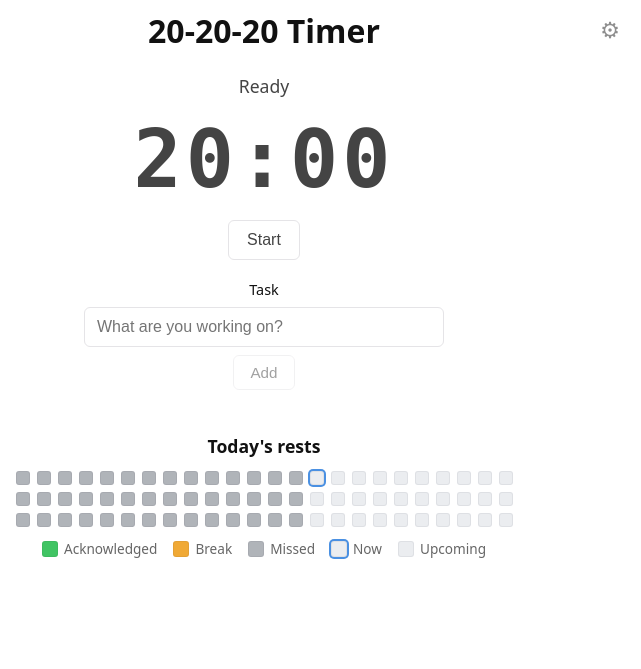
20-20-20 Timer › settings gear toggles the settings panel
The image size is (641, 669).
Click the button named "settings" at (610, 31), box [596,16,624,46]
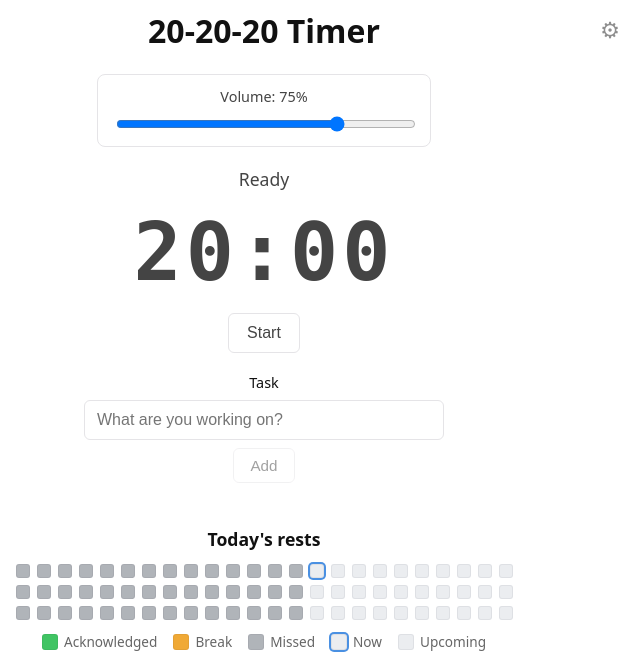
Expected: the element named "settings" is shown, [97,74,431,147]
Expected: the text "Volume: 75%" is shown, [114,87,414,134]
Click the button named "settings" at (610, 31), box [596,16,624,46]
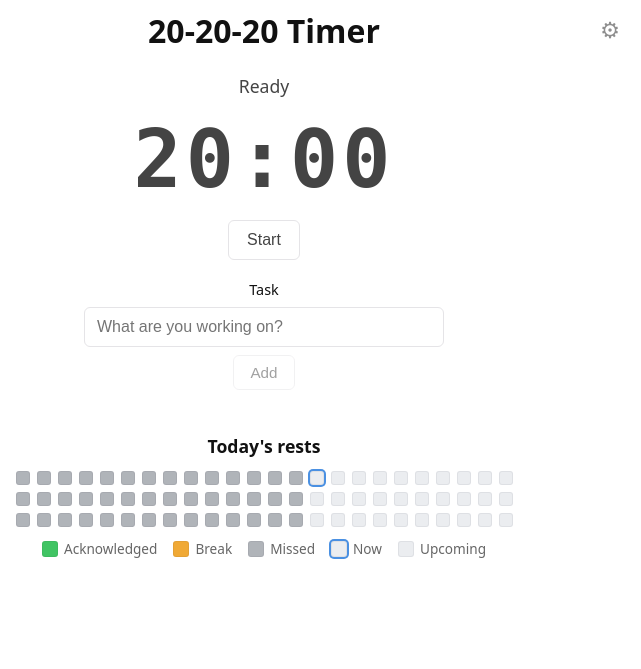
Expected: the text "Volume: 75%" is gone
